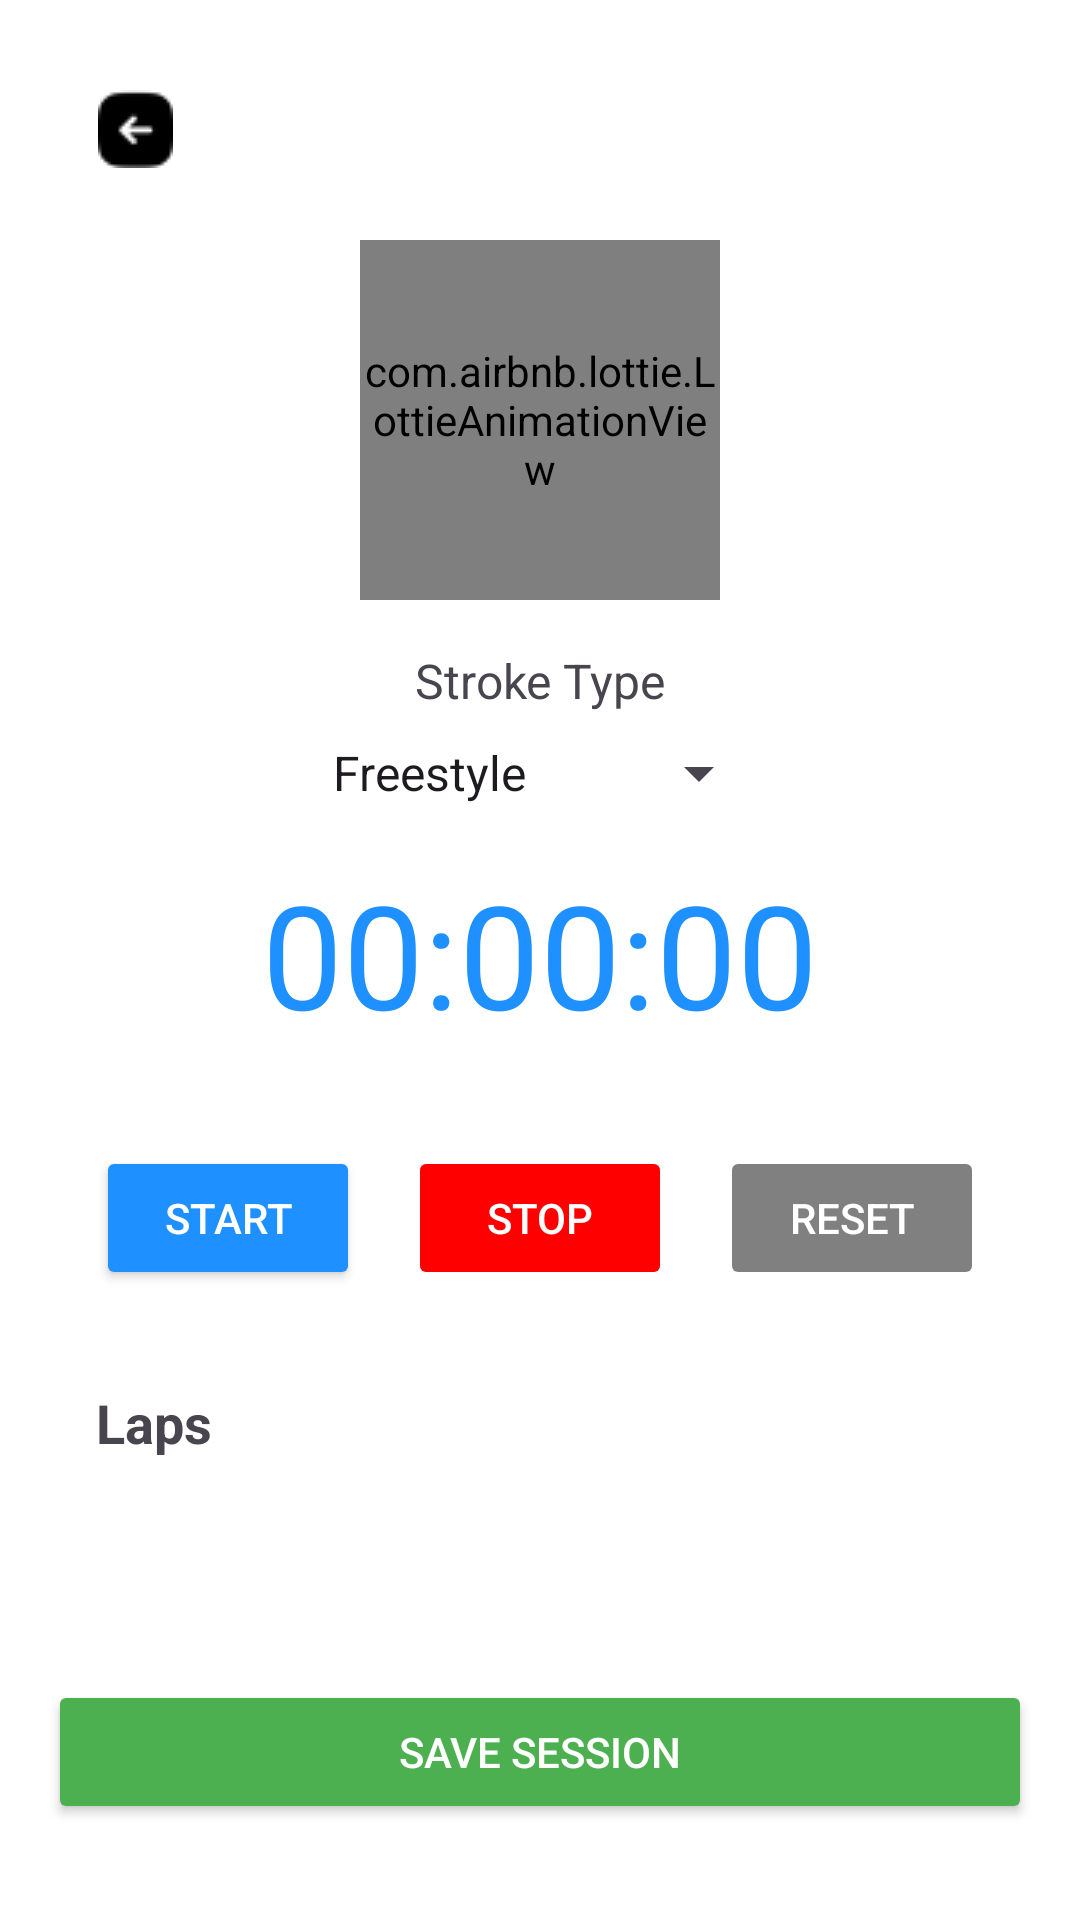

Icon bounding boxes for this 1080 × 1920 phone screenshot, format (x1, y1, x2, y2):
Back: (98, 92, 173, 168)
